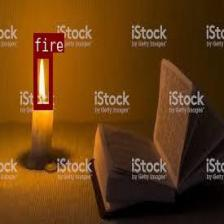fire: (33, 52, 52, 108)
